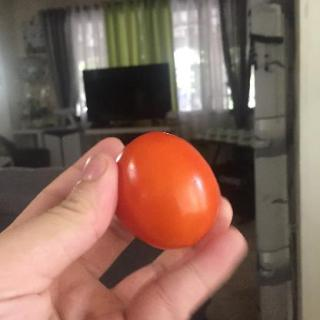Tomat: (104, 123, 247, 258)
